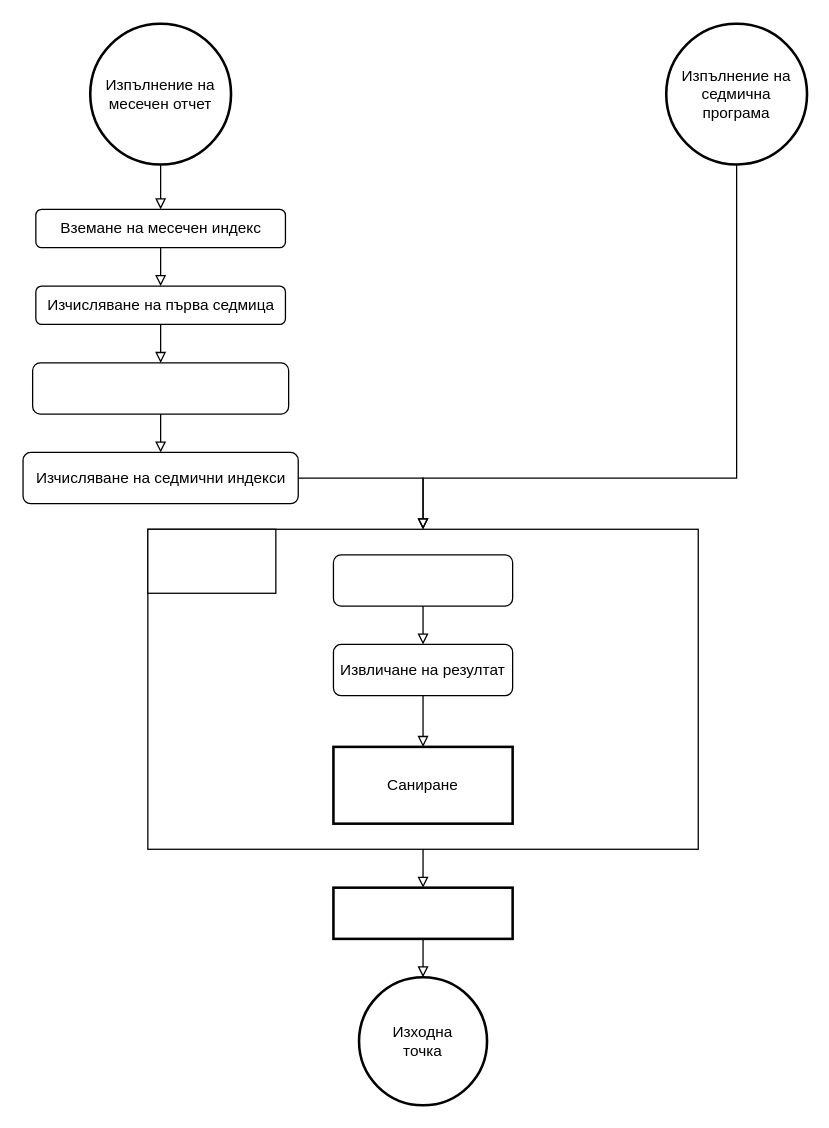
Image size: 829x1128. Some labels were removed from this diagram. The shapes that lost their labels are listed below. From the top down, each one's box as (x1, y1, x2, y2) in pixels, then its label:
(31, 362, 289, 414): Изчисляване на брой седмици в месец
(147, 528, 276, 593): За всяка седмица
(332, 554, 513, 606): Създаване на заявка
(332, 886, 513, 940): Експорт
